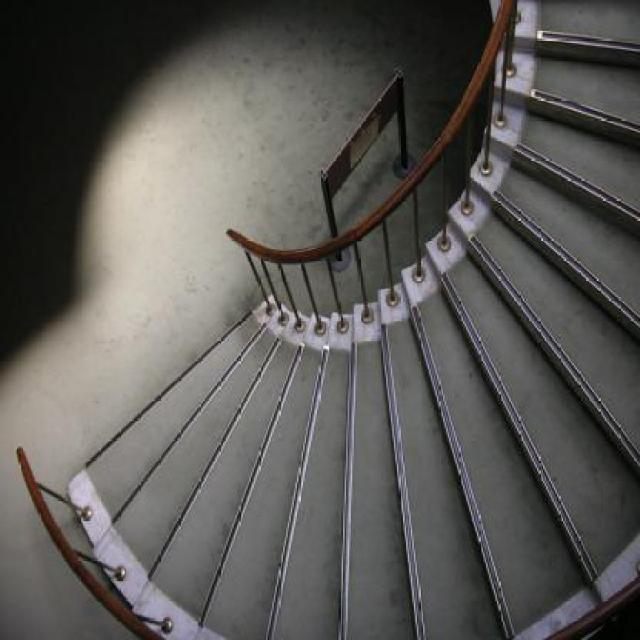stair: (61, 178, 640, 639)
